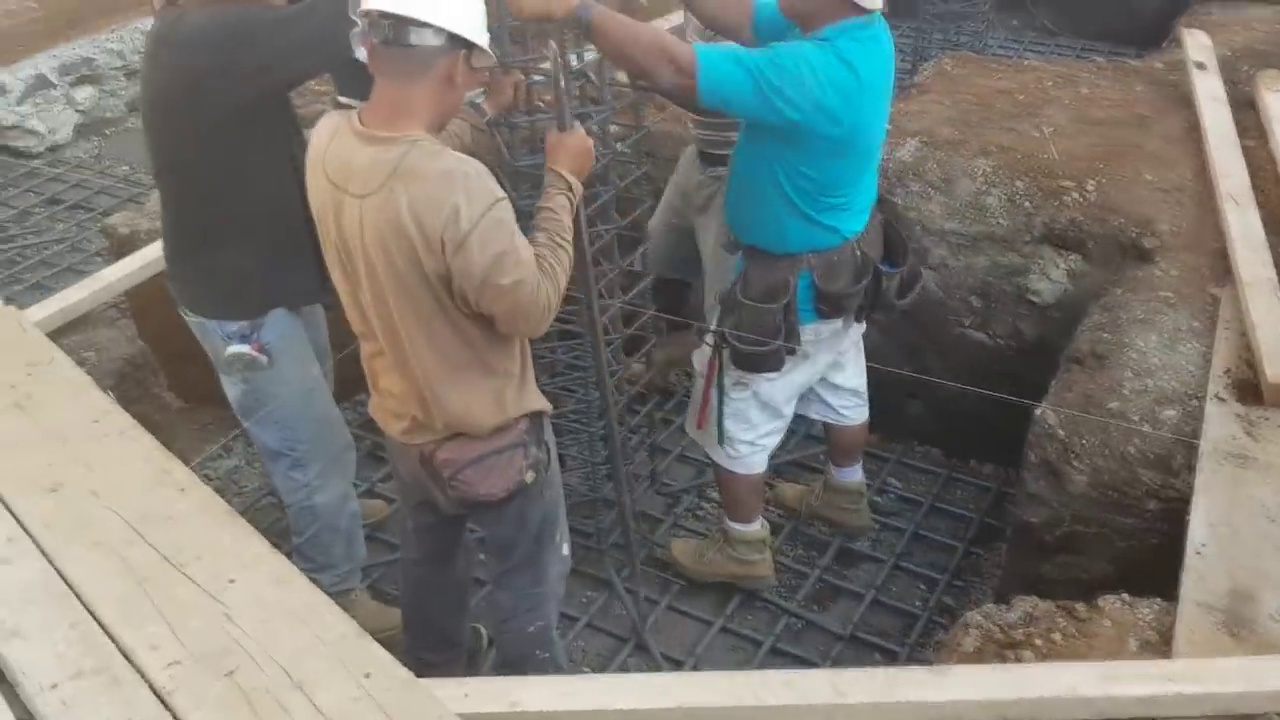helmet: (355, 2, 493, 79)
helmet-off: (773, 0, 883, 42)
helmet-on: (342, 0, 516, 147)
person: (581, 0, 908, 609), (298, 0, 590, 676), (138, 0, 402, 642), (642, 0, 765, 373)
